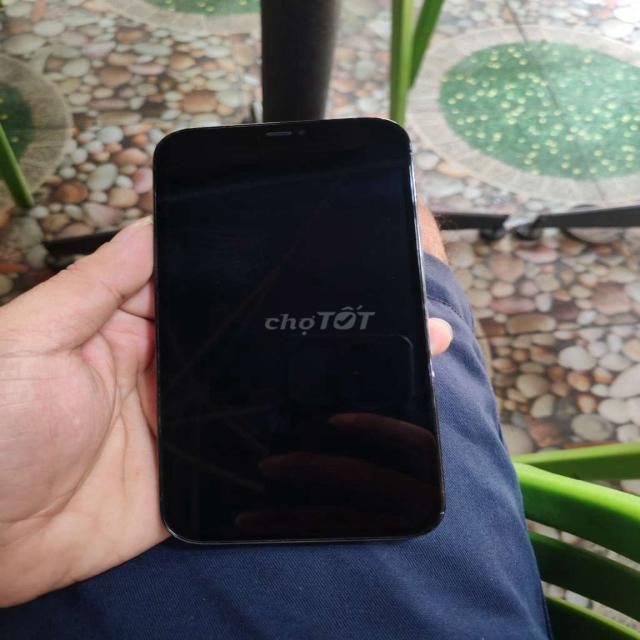gen_12_13: (147, 116, 453, 550)
